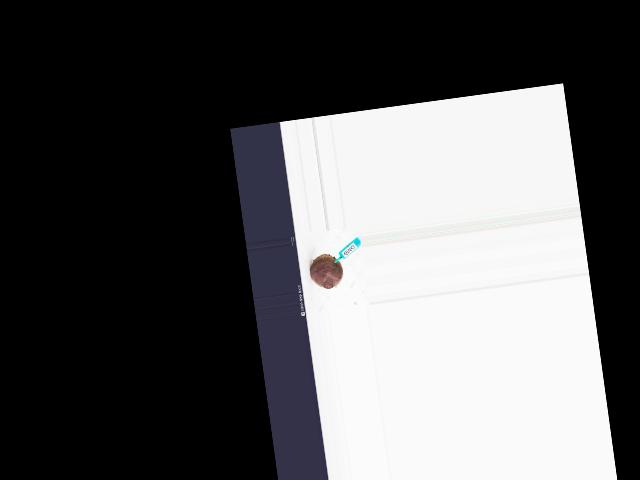beet: (307, 252, 344, 290)
